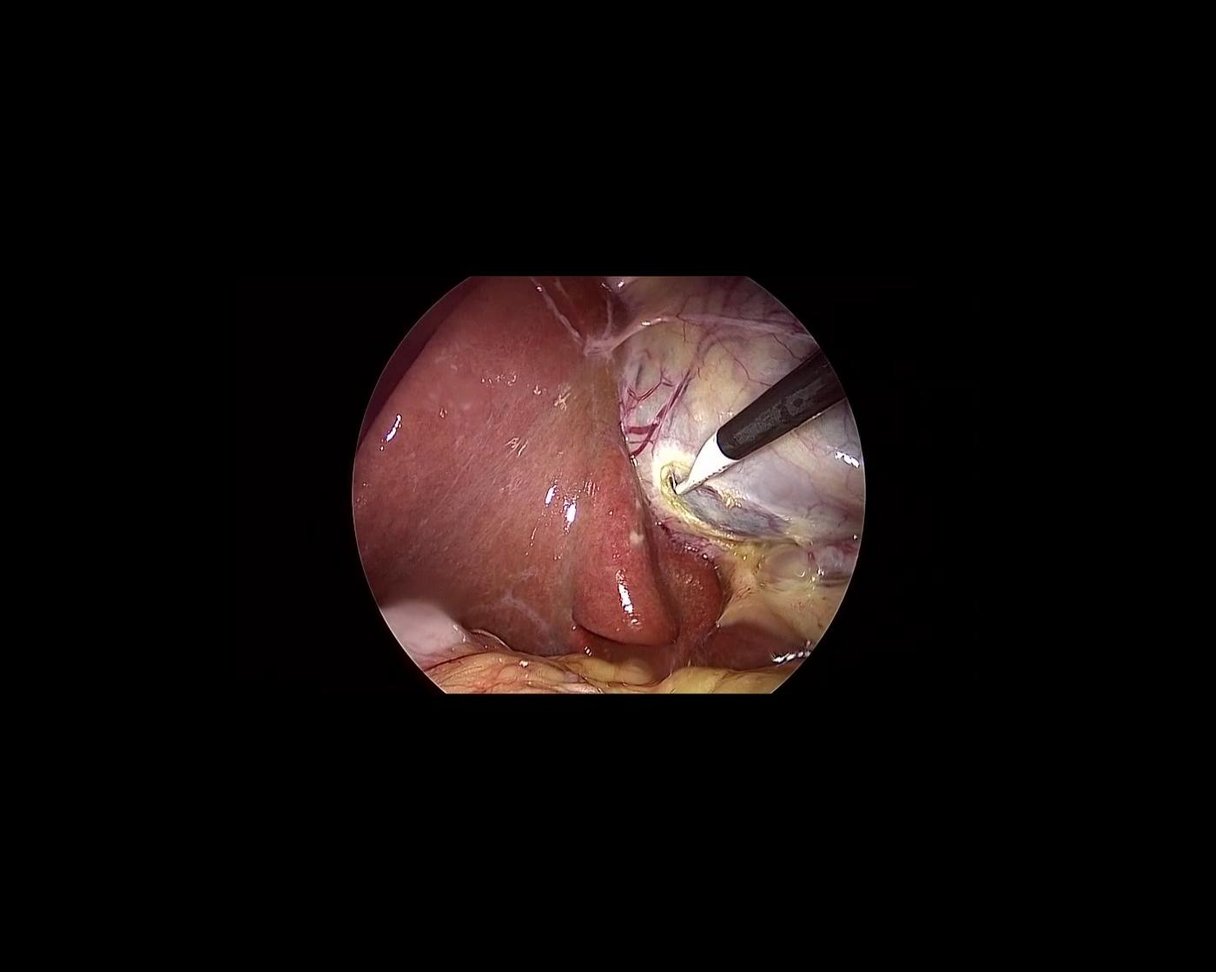Cautery: (646, 348, 845, 501)
Gallbladder: (610, 260, 866, 549)
Liver: (270, 227, 799, 811)
